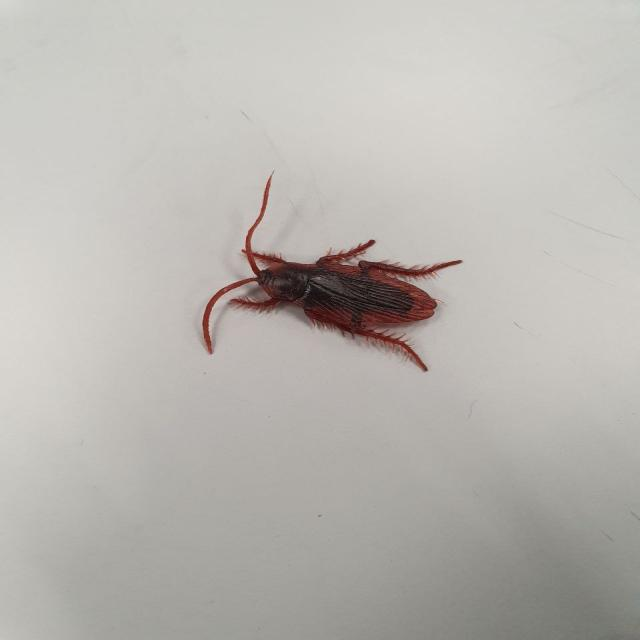Cockroach: (177, 189, 462, 375)
